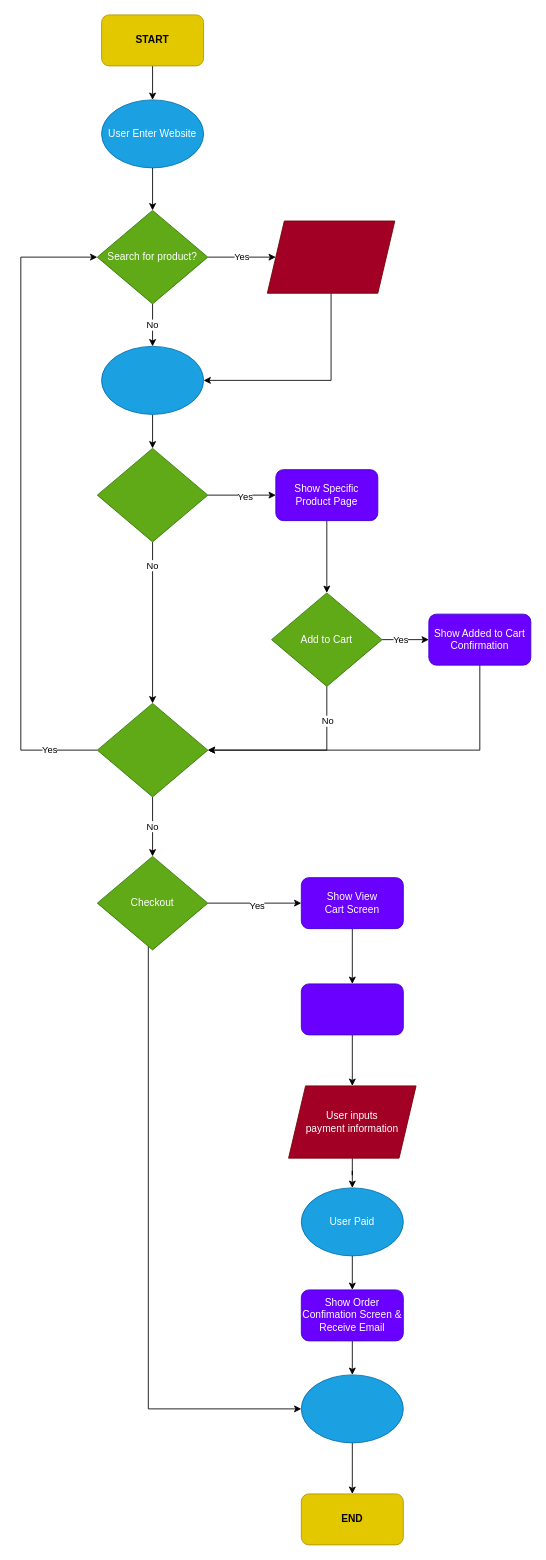
Some shapes in this 546 by 1560 pixel diagram are drawn without their labels. Each missing label, with the centre of its shape:
Continue Shopping?: point (152, 750)
Show View Payment Screen: point (351, 1009)
User explore & look for products: point (152, 380)
User inputs product to search: point (330, 256)
User Leave Website: point (351, 1408)
View specific product?: point (152, 495)
